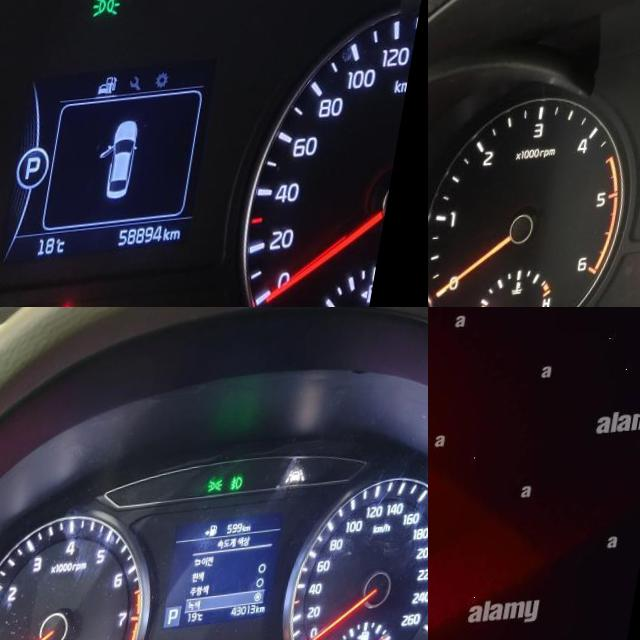FrontFogLight: (237, 481, 251, 497)
LaneCenteringOff: (292, 475, 314, 491)
SideLamp: (97, 0, 129, 25), (214, 484, 231, 499)
